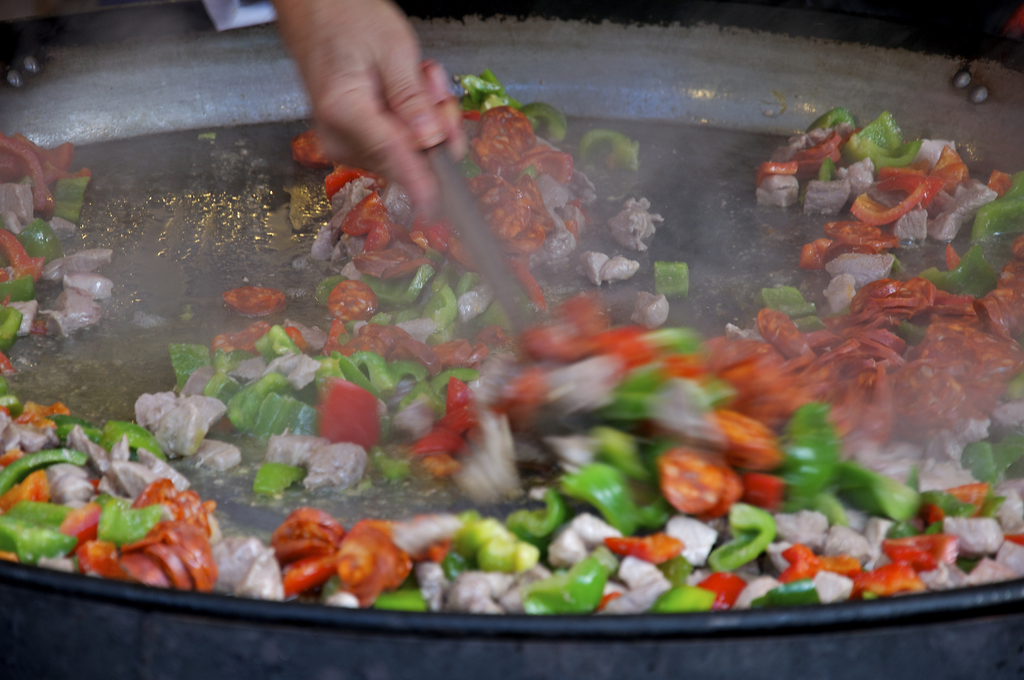person: (0, 0, 471, 275)
